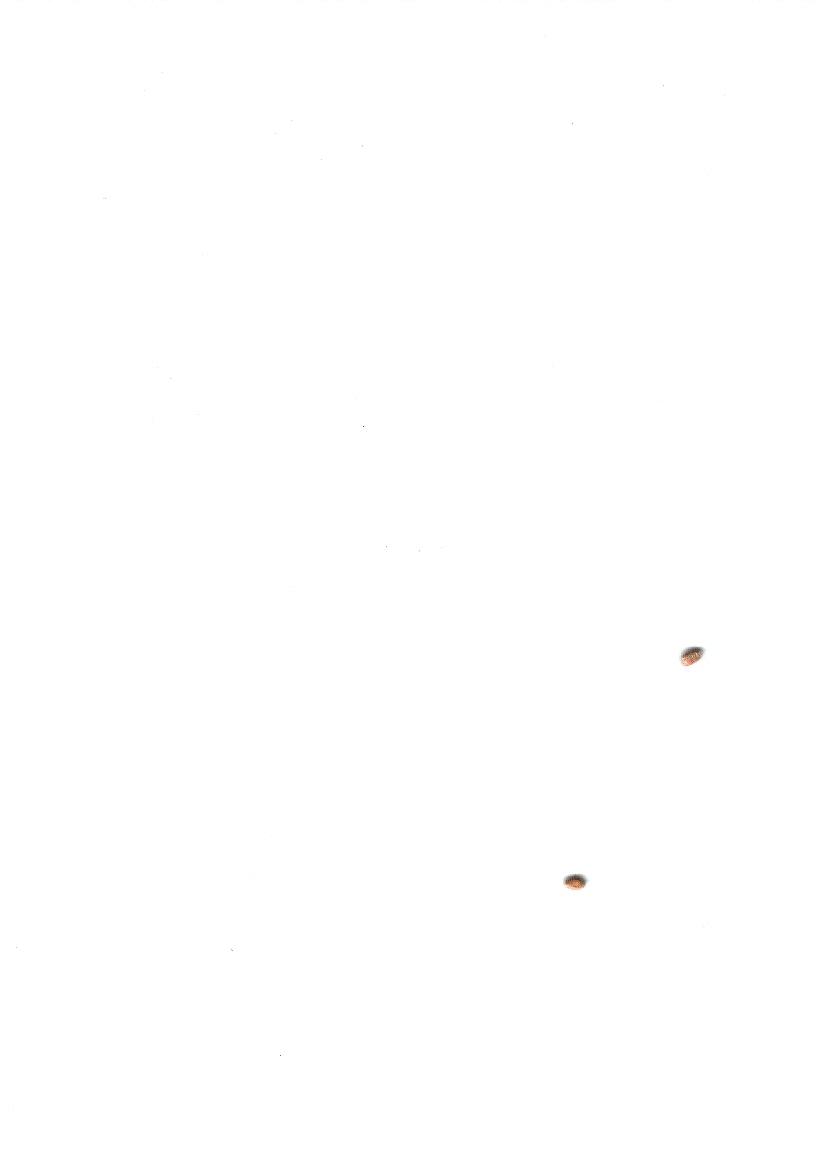grains: (551, 859, 603, 910), (670, 634, 711, 684)
